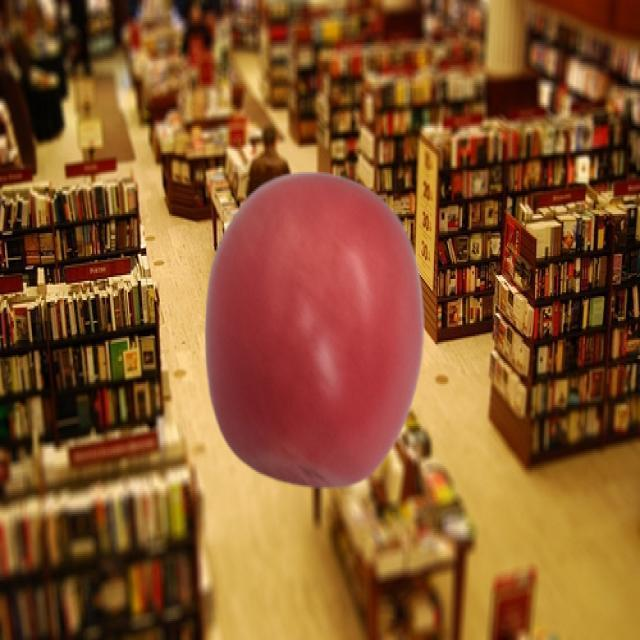apple: (206, 172, 425, 488)
